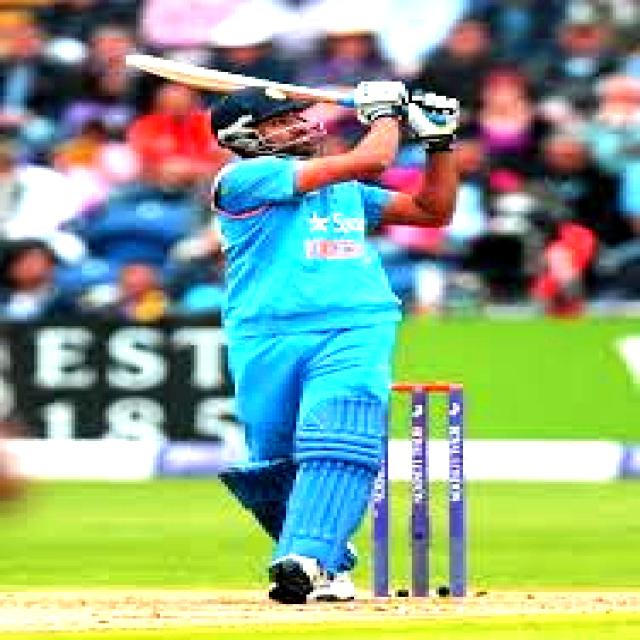toe: (118, 48, 156, 73)
